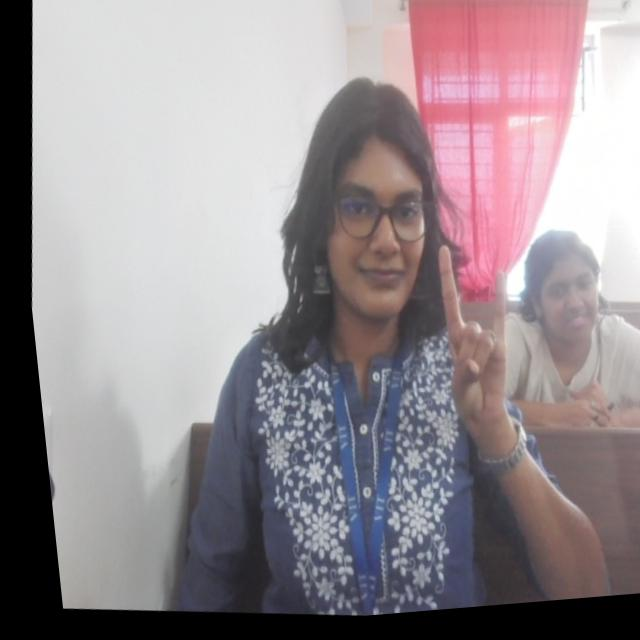iloveyou: (410, 242, 526, 453)
